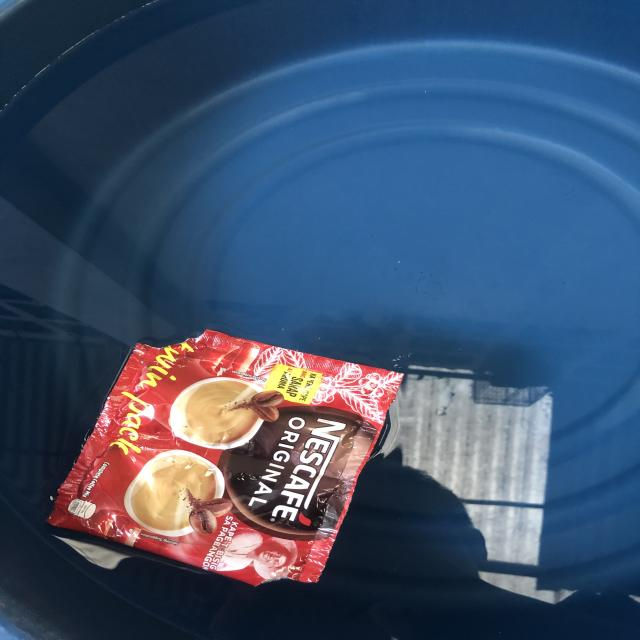Plastic Wrapper: (43, 332, 390, 584)
